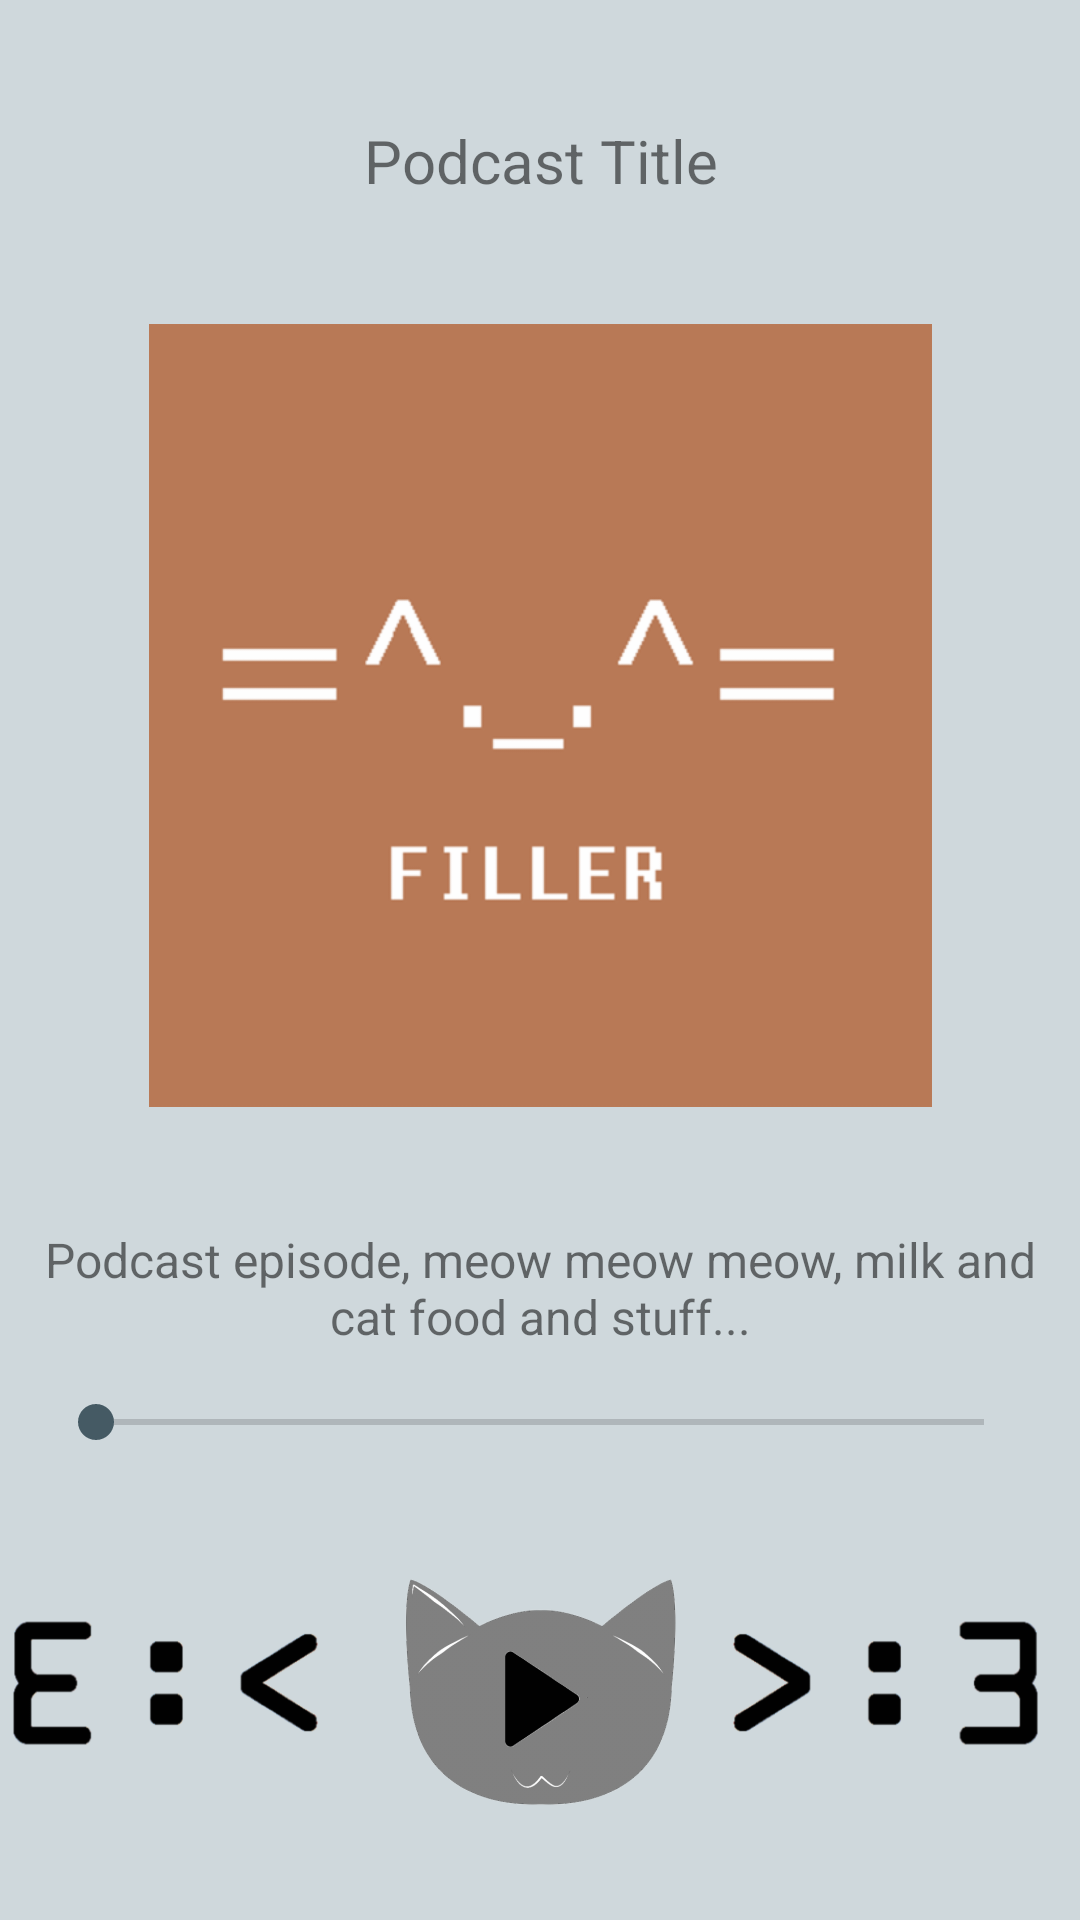

Locate icon controls on the screen. Image size 1080*1920, boxes as (left=x1, top=y1, right=x2, bottom=y2).
backward: (left=13, top=1621, right=318, bottom=1745)
cat play: (left=406, top=1580, right=676, bottom=1805)
forward: (left=733, top=1621, right=1038, bottom=1745)
